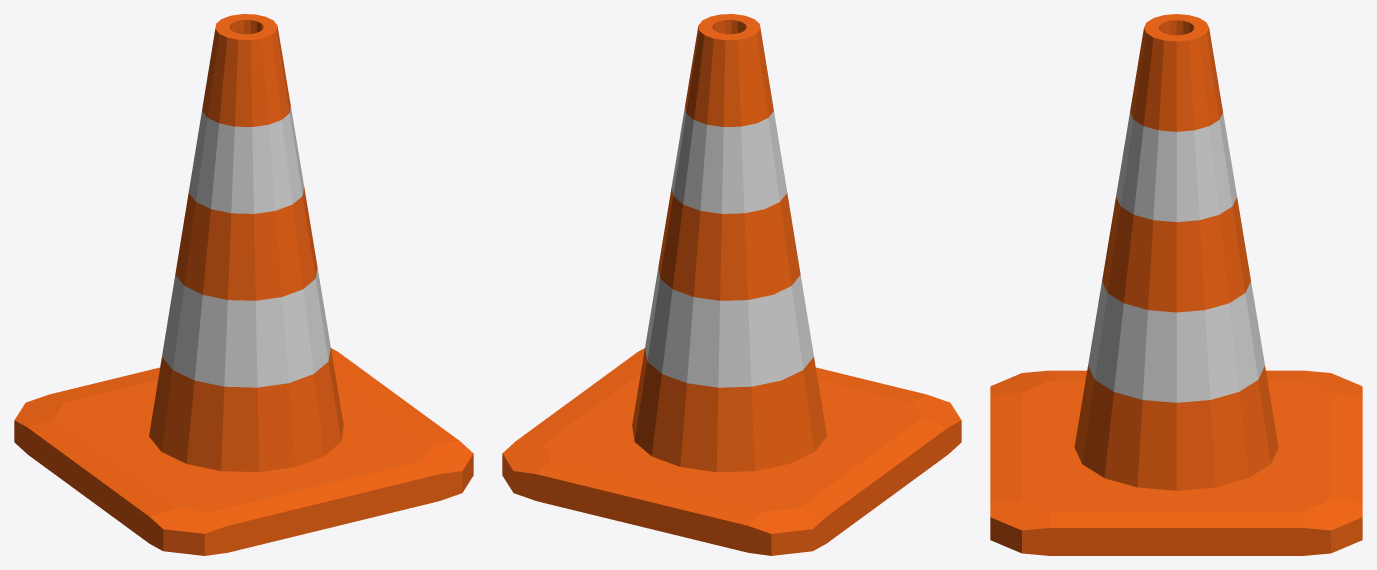
The model's file is traffic-cone.fbx.
3 renders of one model, left to right at view 1: azimuth 30°, elevation 25°; view 2: azimuth 150°, elevation 25°; view 3: azimuth 270°, elevation 25°, orthographic. The views are drawn at different scales.
Visible parts, largest first — view 1: Cube; view 2: Cube; view 3: Cube.
Boxes of the visible parts, box(x1,y1,x2,y2) form: Cube: box(14, 14, 473, 555); Cube: box(502, 14, 961, 555); Cube: box(990, 14, 1362, 555).
Size of the model in its own units: 40 by 53.73 by 40.
Materials: 1 (1 with a texture image).
